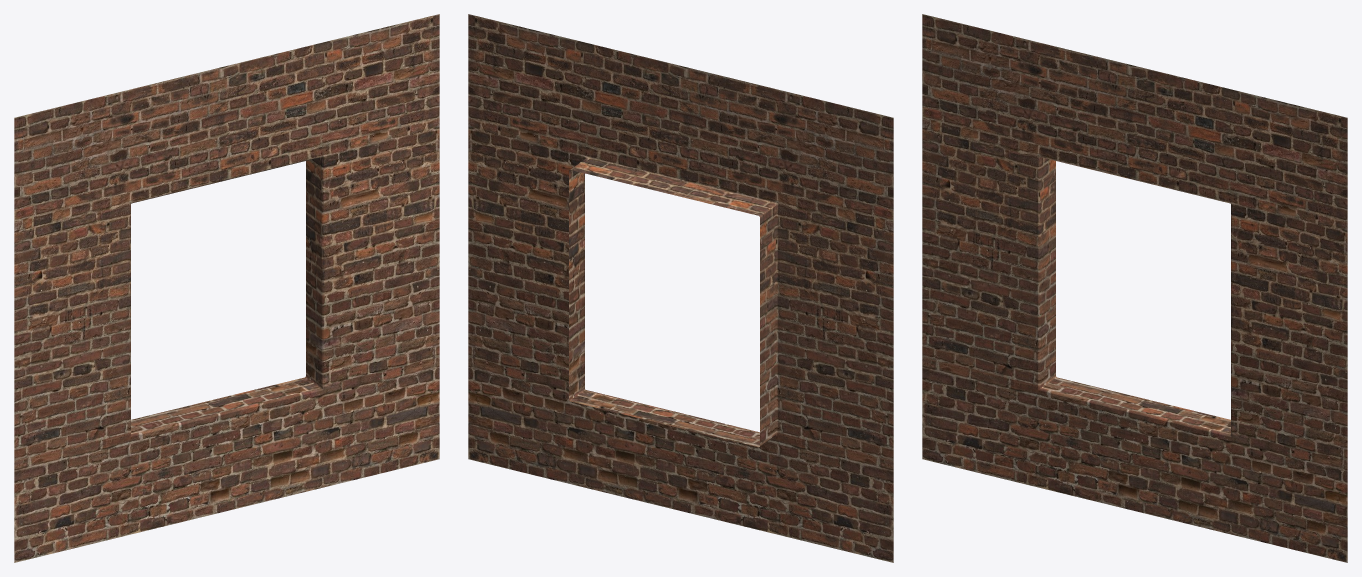
File: factory-window.glb
3 views of the same model, side by side, from view 1: azimuth 30°, elevation 25°; view 2: azimuth 150°, elevation 25°; view 3: azimuth 330°, elevation 25° (orthographic).
Visible parts, largest first — view 1: wall_window_centered_medium_01; view 2: wall_window_centered_medium_01; view 3: wall_window_centered_medium_01.
Part boxes in pixels (x1,y1,x2,y2): wall_window_centered_medium_01: (14,14,439,562); wall_window_centered_medium_01: (468,14,893,562); wall_window_centered_medium_01: (922,14,1347,562).
Size of the model in its own units: 3 by 3 by 0.2.
1 material, 1 textured.
